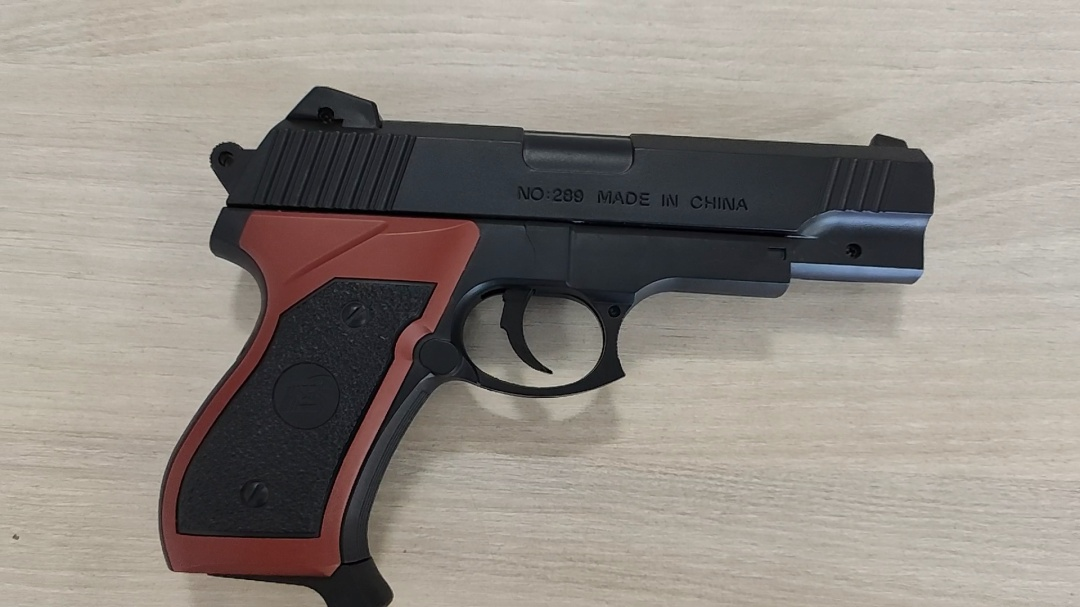gun: (475, 245, 535, 311)
